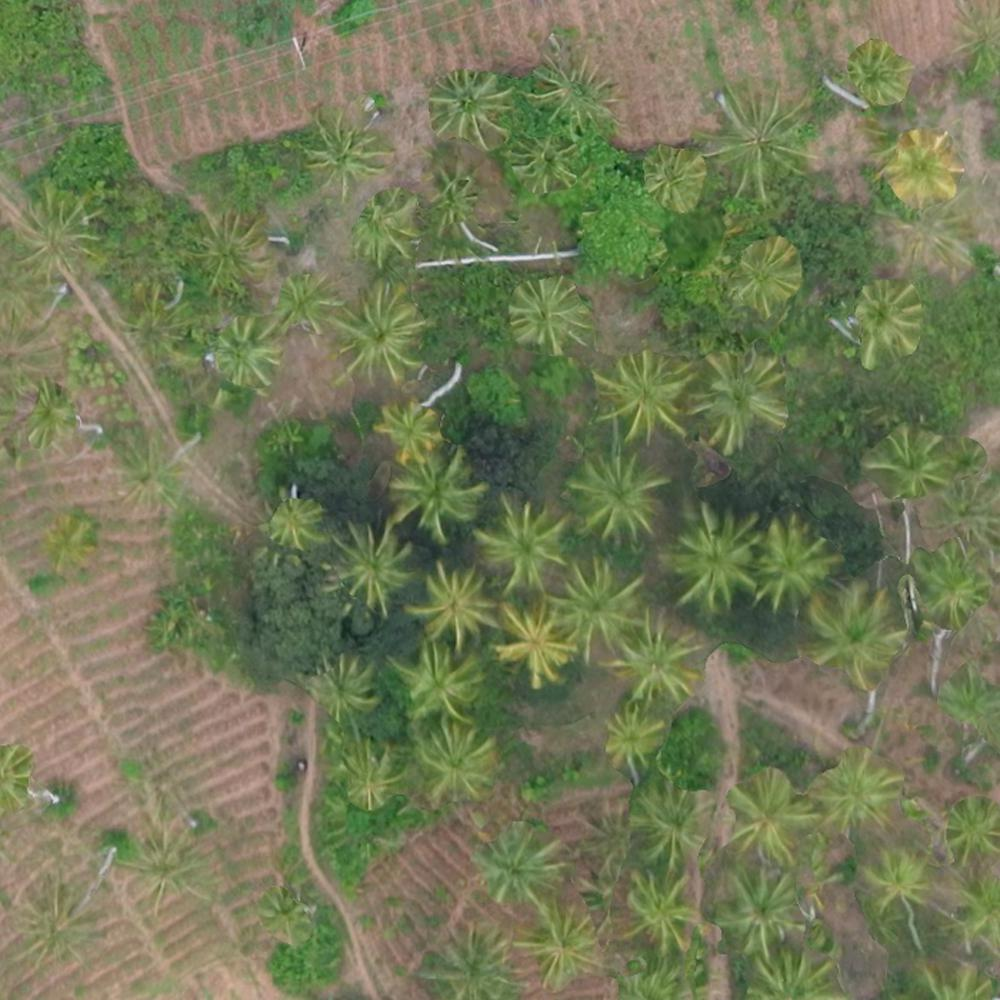Palm: (703, 86, 812, 190), (664, 508, 757, 612), (810, 580, 905, 681), (552, 556, 642, 660), (571, 448, 668, 544), (685, 350, 780, 448), (388, 450, 490, 541), (710, 865, 807, 957), (615, 866, 708, 955), (333, 286, 421, 380), (478, 493, 568, 584), (598, 349, 690, 438), (749, 516, 834, 612), (513, 902, 605, 989), (326, 522, 413, 612), (728, 772, 819, 857), (814, 752, 902, 839), (394, 640, 482, 726), (627, 781, 714, 866), (412, 562, 499, 645), (305, 114, 396, 193), (428, 67, 509, 152), (494, 600, 575, 685), (611, 619, 695, 700), (478, 824, 564, 901), (525, 58, 614, 132), (854, 840, 938, 918), (419, 722, 501, 800), (188, 216, 269, 293), (847, 284, 925, 363), (511, 274, 585, 354), (886, 132, 963, 206), (870, 422, 949, 493), (310, 651, 382, 724), (638, 145, 713, 214), (371, 397, 448, 464), (913, 547, 981, 619), (604, 702, 672, 774), (252, 490, 327, 555), (215, 319, 280, 389), (731, 243, 799, 308), (850, 42, 918, 104), (275, 269, 333, 332)
